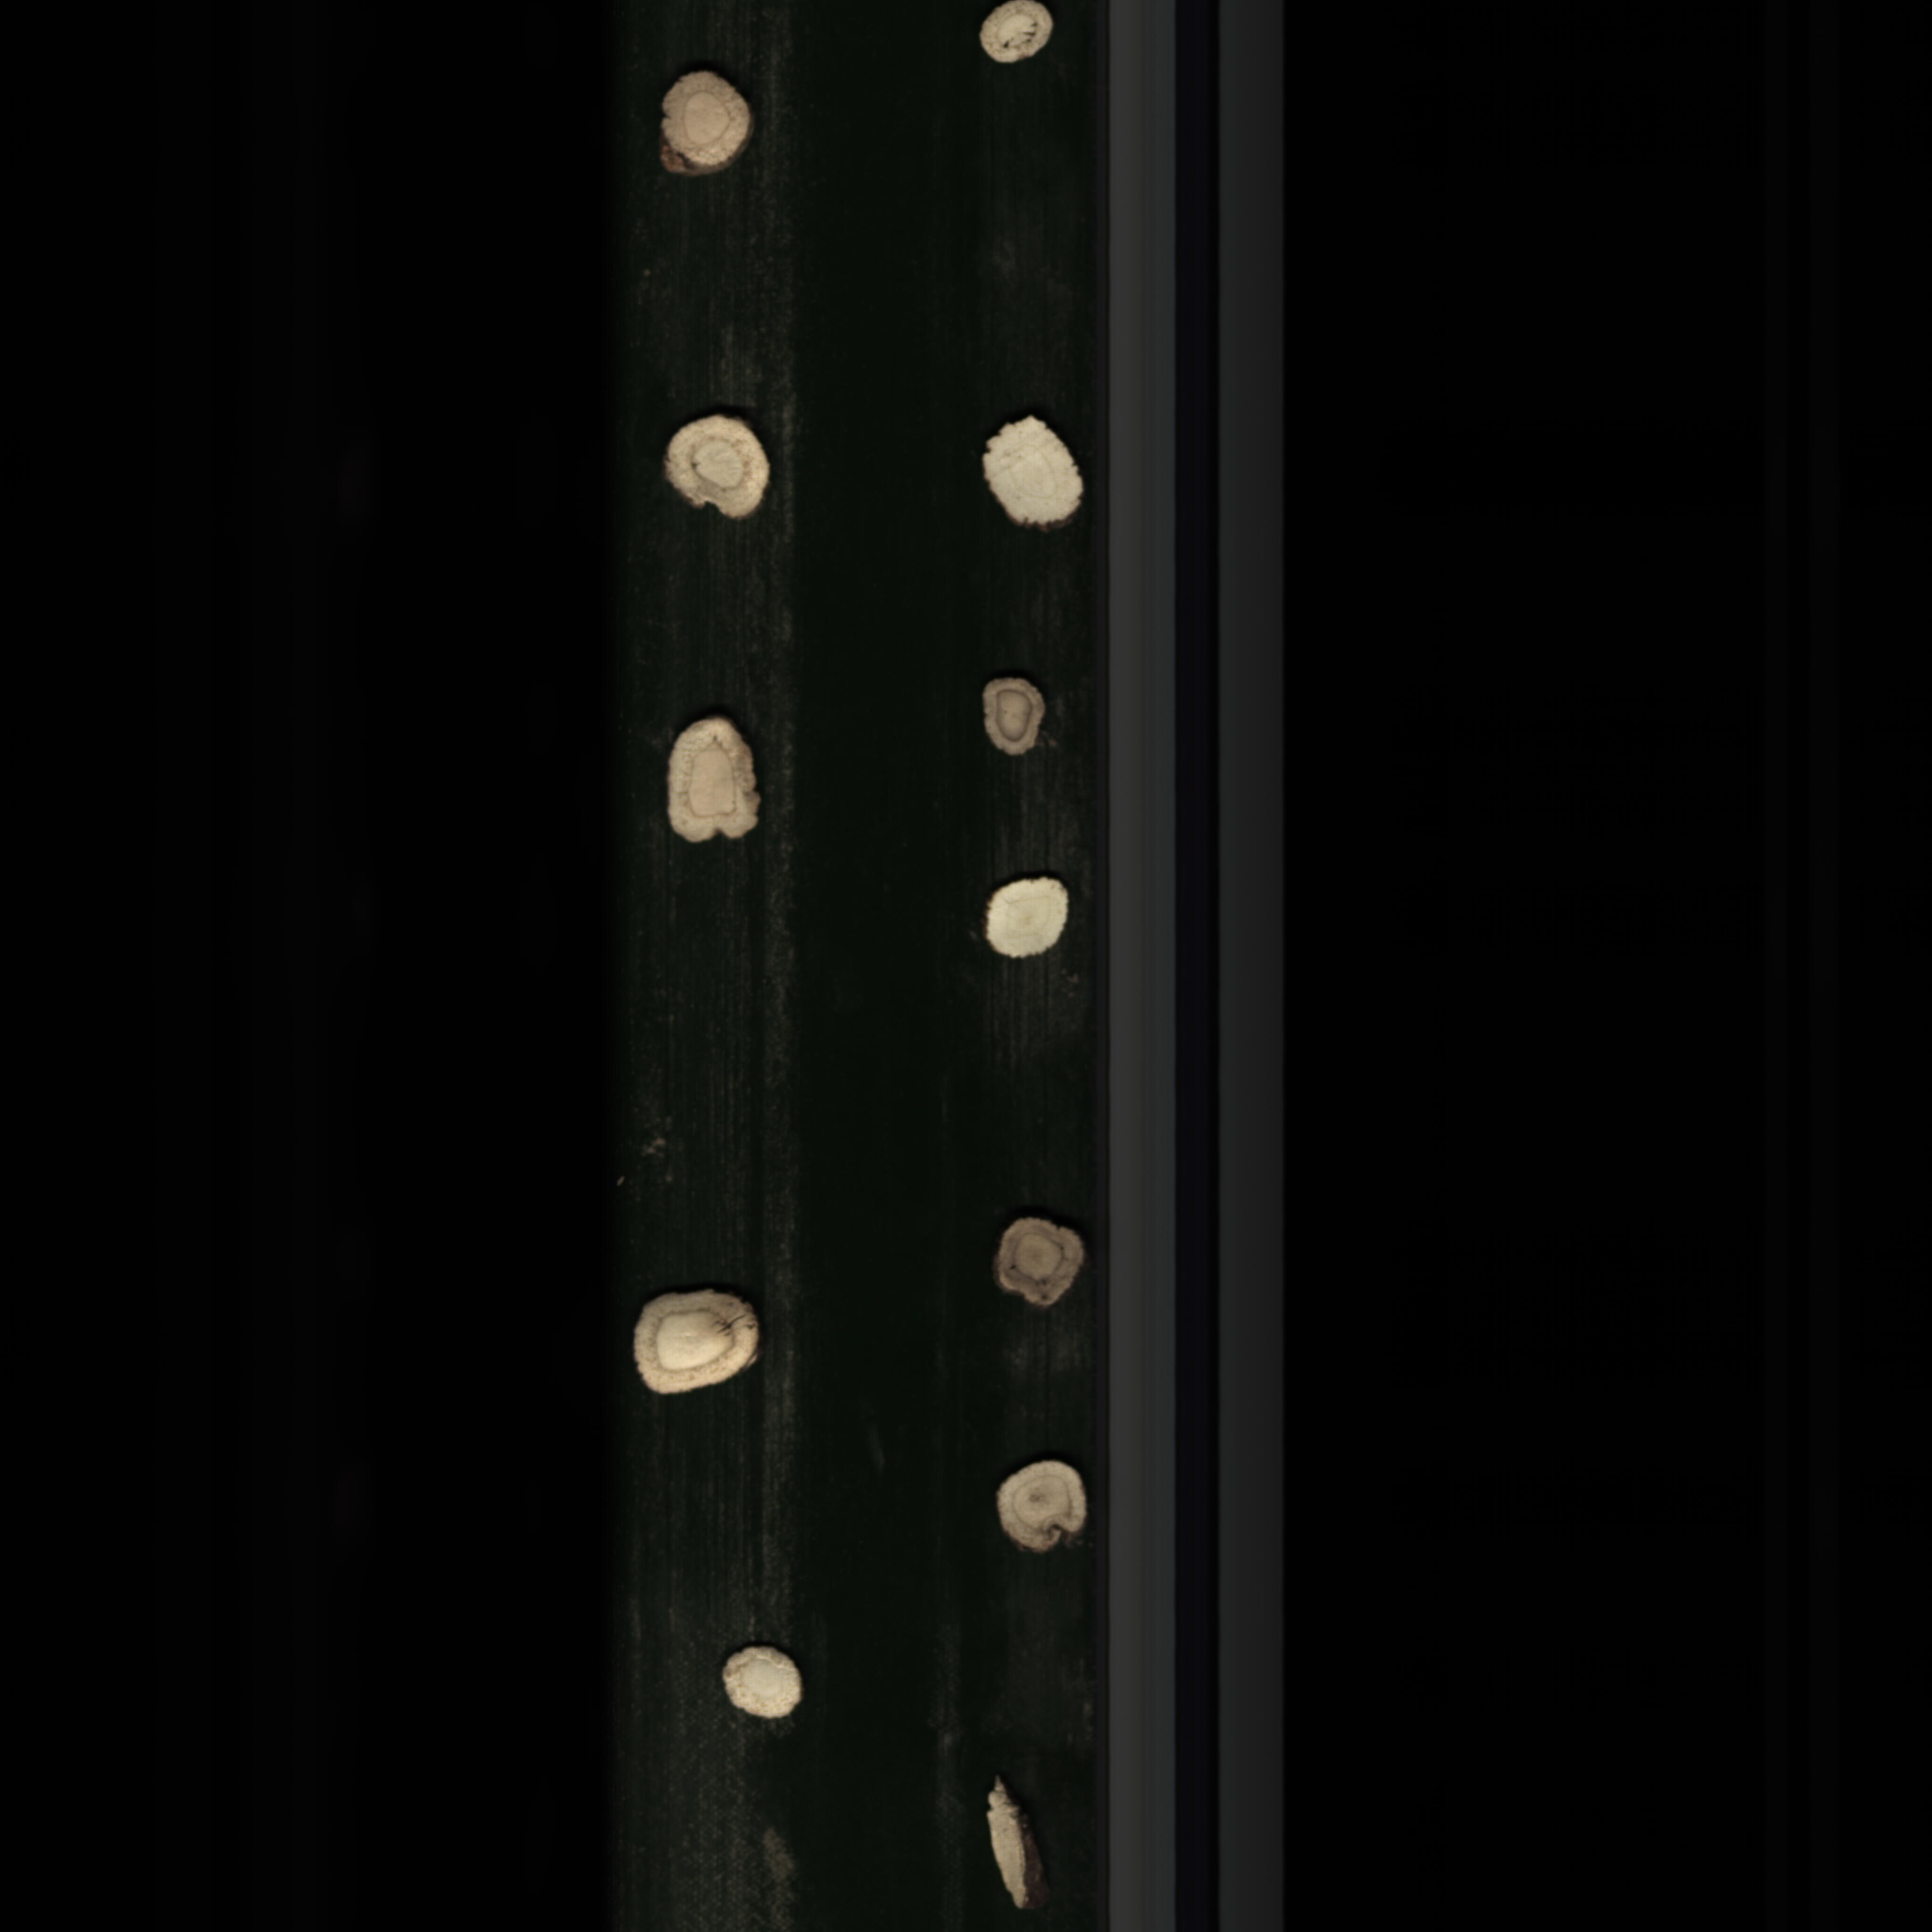bark: (977, 1767, 1056, 1914)
distortion: (649, 67, 763, 186), (980, 1458, 1095, 1568)
hole: (978, 0, 1060, 71)
moldy: (994, 1214, 1085, 1311), (973, 674, 1060, 763)
